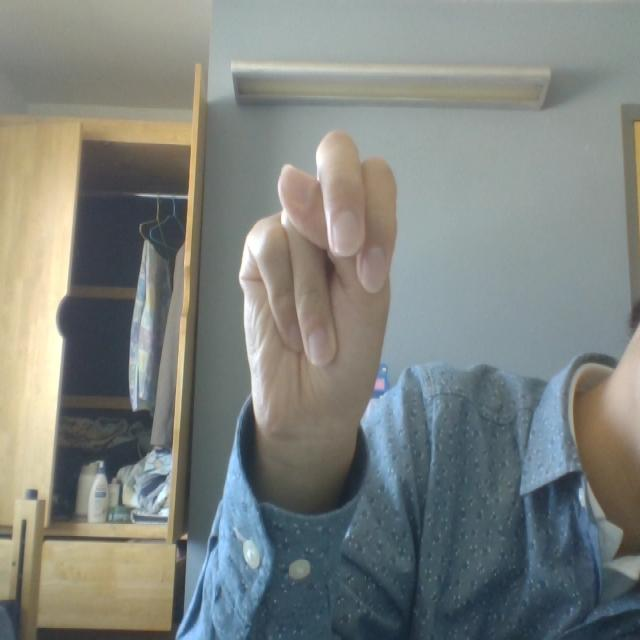N: (203, 107, 463, 477)
